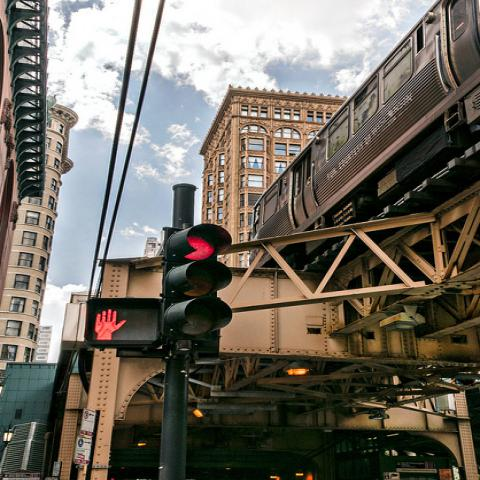bus: (114, 422, 469, 474)
